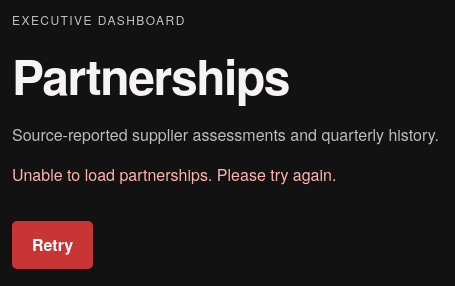
Test: Partnerships › reports request errors and retries
Expected: the message shows "Unable to load", [12,163,336,186]
Click the button "Retry" at (53, 245), box [12,221,93,269]
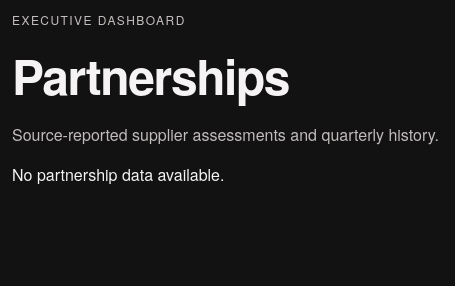
Expected: the text "No partnership data available." is shown, [12,163,224,186]
